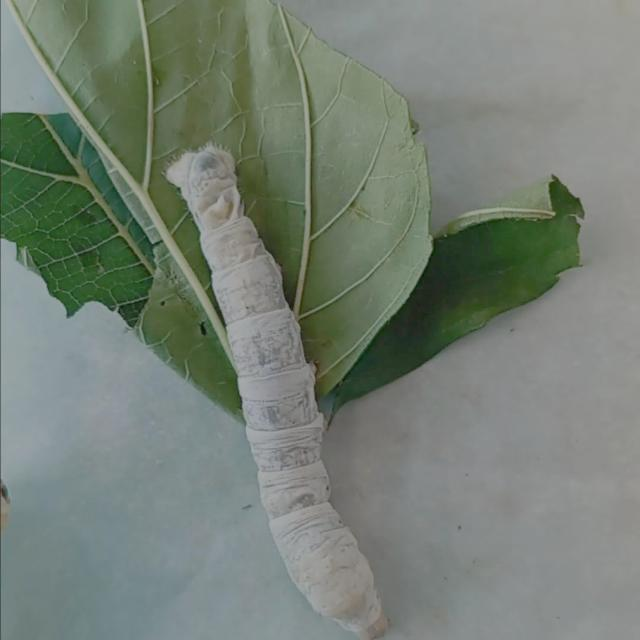Grasserie: (128, 117, 431, 640)
